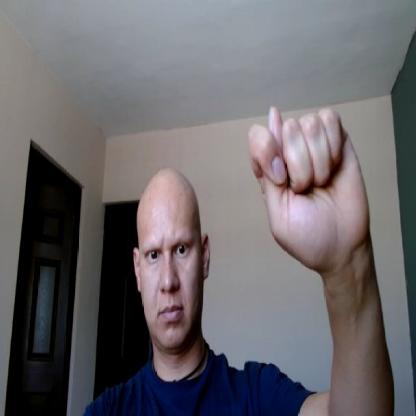T: (249, 104, 369, 271)
